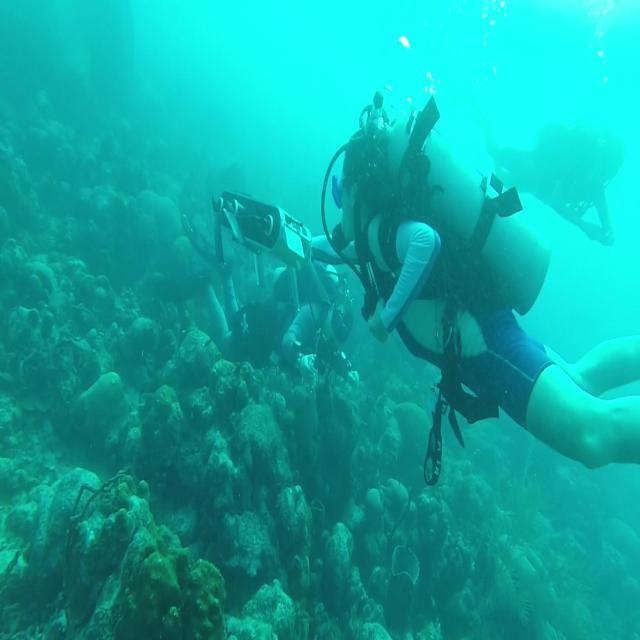human: (322, 93, 638, 485), (178, 189, 356, 383), (478, 118, 625, 247)
